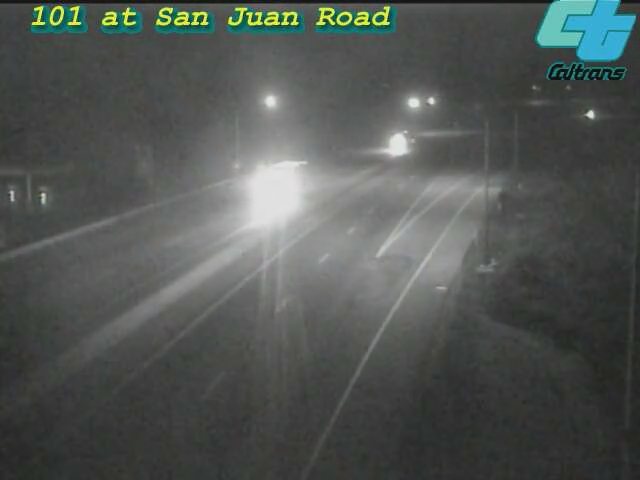vehicle: (238, 144, 318, 224), (372, 119, 422, 169), (565, 90, 615, 140)
